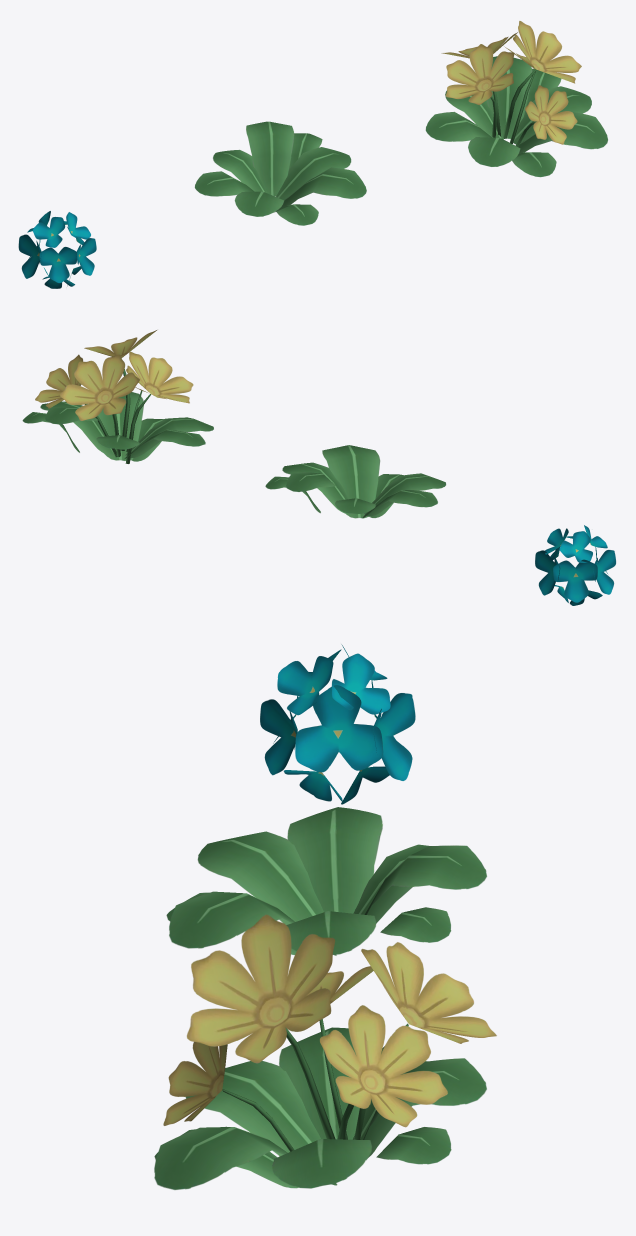
Rendered from bush_free.glb.
3 renders of one model, top to bottom at view 1: azimuth 30°, elevation 25°; view 2: azimuth 150°, elevation 25°; view 3: azimuth 270°, elevation 25°, orthographic. The views are drawn at different scales.
Visible parts, largest first — view 1: Plant_Flowers, Plant_2, Petals_1; view 2: Plant_Flowers, Plant_2, Petals_1; view 3: Plant_Flowers, Plant_2, Petals_1.
Boxes of the visible parts, x1,y1,x2,y2 form: Plant_Flowers: (425, 21, 607, 177); Plant_2: (194, 121, 366, 225); Petals_1: (18, 211, 96, 288); Plant_Flowers: (22, 330, 213, 463); Plant_2: (265, 445, 446, 518); Petals_1: (535, 525, 615, 605); Plant_Flowers: (154, 914, 496, 1189); Plant_2: (166, 807, 486, 955); Petals_1: (260, 644, 415, 804).
Bounding box in the file's own units: 5 × 1.34 × 1.53.
1 material, 1 textured.
